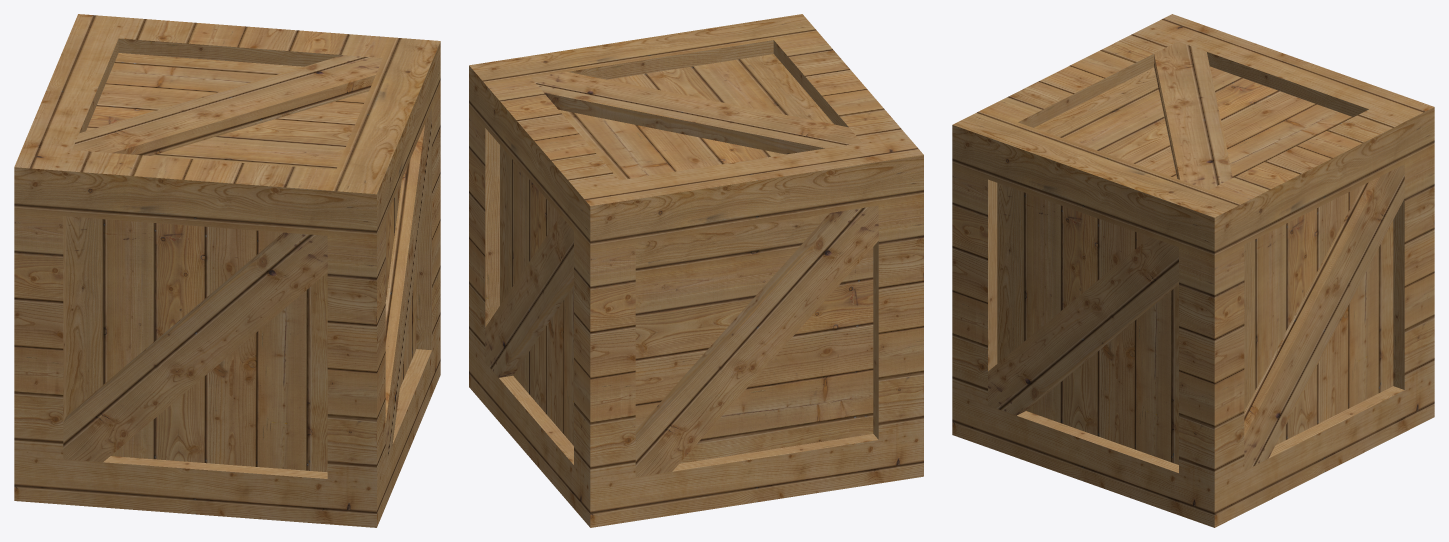
The picture shows the model from 3 angles, left to right: view 1: azimuth 30°, elevation 25°; view 2: azimuth 150°, elevation 25°; view 3: azimuth 270°, elevation 25°; orthographic projection. The views are drawn at different scales.
Parts seen in each view (by area): view 1: Box001; view 2: Box001; view 3: Box001.
Part boxes in pixels (box(x1,y1,x2,y2)): Box001: box(14, 14, 440, 527); Box001: box(469, 14, 923, 527); Box001: box(952, 14, 1434, 527).
Size of the model in its own units: 48.74 by 34.6 by 48.74.
Materials: 1 (1 with a texture image).
